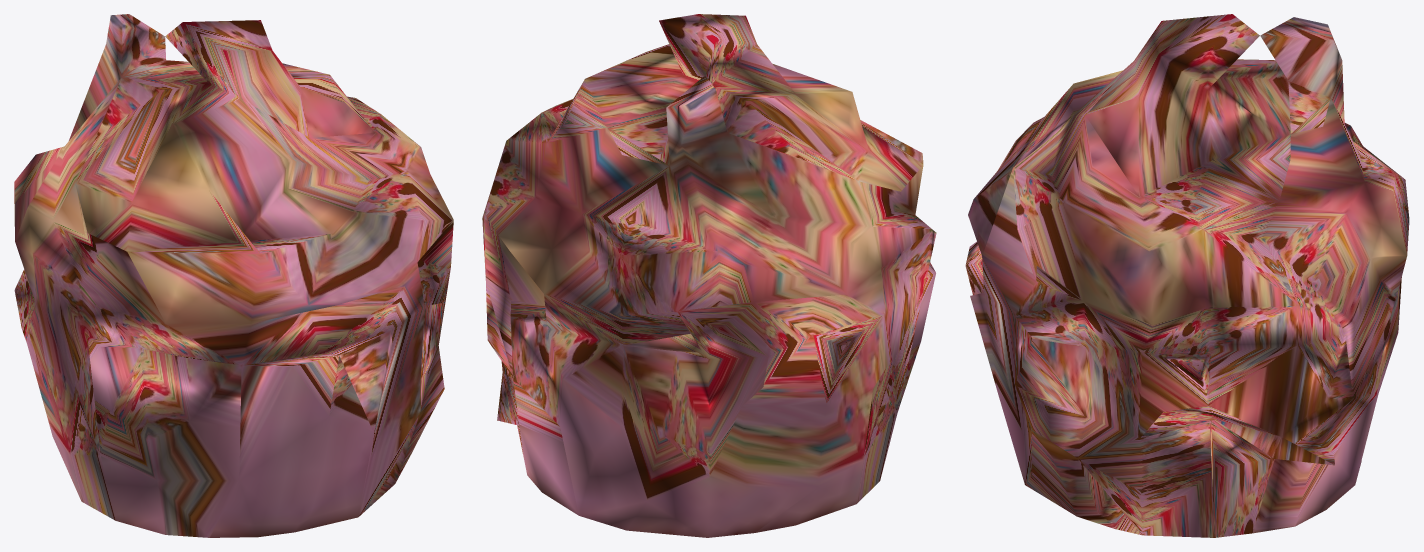
File: candy-cupcake-house-far-D7iD4s-A.glb
The picture shows the model from 3 angles, left to right: view 1: azimuth 30°, elevation 25°; view 2: azimuth 150°, elevation 25°; view 3: azimuth 270°, elevation 25°; orthographic projection. The views are drawn at different scales.
Visible parts, largest first — view 1: tripo_node_975bf4a6-d0b6-4f1c-a81e-98784e0141e9; view 2: tripo_node_975bf4a6-d0b6-4f1c-a81e-98784e0141e9; view 3: tripo_node_975bf4a6-d0b6-4f1c-a81e-98784e0141e9.
Part boxes in pixels (box(x1,y1,x2,y2)): tripo_node_975bf4a6-d0b6-4f1c-a81e-98784e0141e9: box(14, 14, 453, 537); tripo_node_975bf4a6-d0b6-4f1c-a81e-98784e0141e9: box(482, 14, 936, 537); tripo_node_975bf4a6-d0b6-4f1c-a81e-98784e0141e9: box(965, 14, 1409, 537).
Size of the model in its own units: 0.8012 by 0.8821 by 0.808.
1 material, 1 textured.
